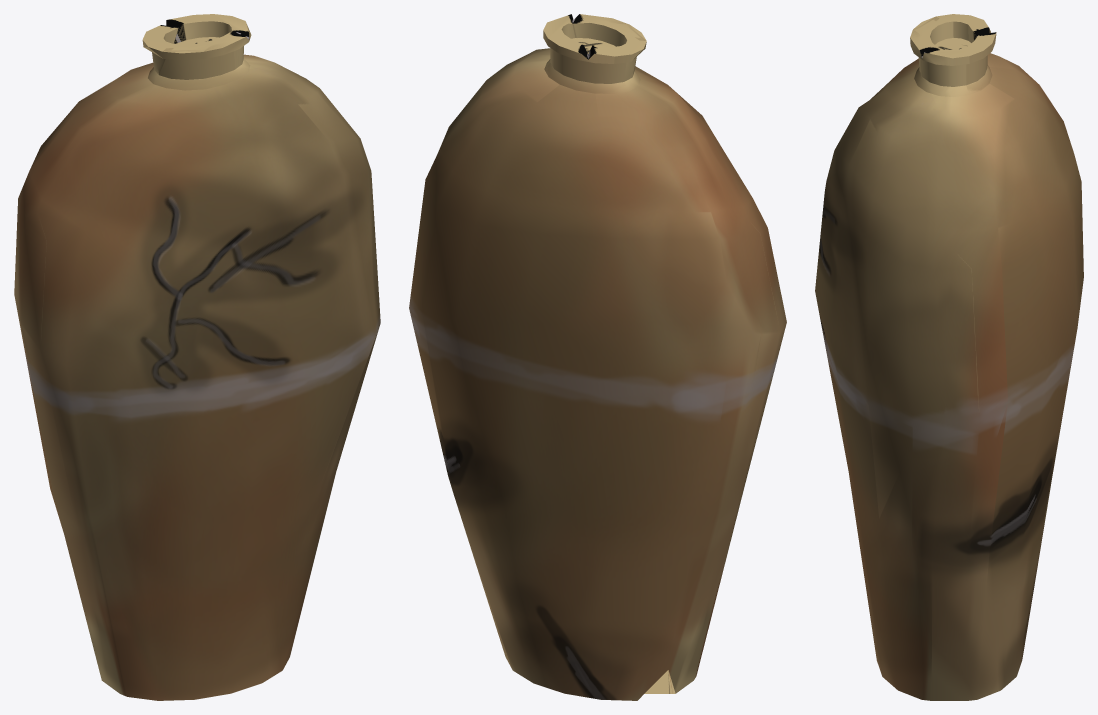
Rendered from vase2.fbx.
3 renders of one model, left to right at view 1: azimuth 30°, elevation 25°; view 2: azimuth 150°, elevation 25°; view 3: azimuth 270°, elevation 25°, orthographic.
Visible parts, largest first — view 1: vase2; view 2: vase2; view 3: vase2.
Boxes of the visible parts, x1,y1,x2,y2 form: vase2: [14, 14, 380, 700]; vase2: [409, 14, 786, 700]; vase2: [815, 14, 1083, 700].
Bounding box in the file's own units: 230 × 408 × 159.
Materials: 1 (1 with a texture image).
